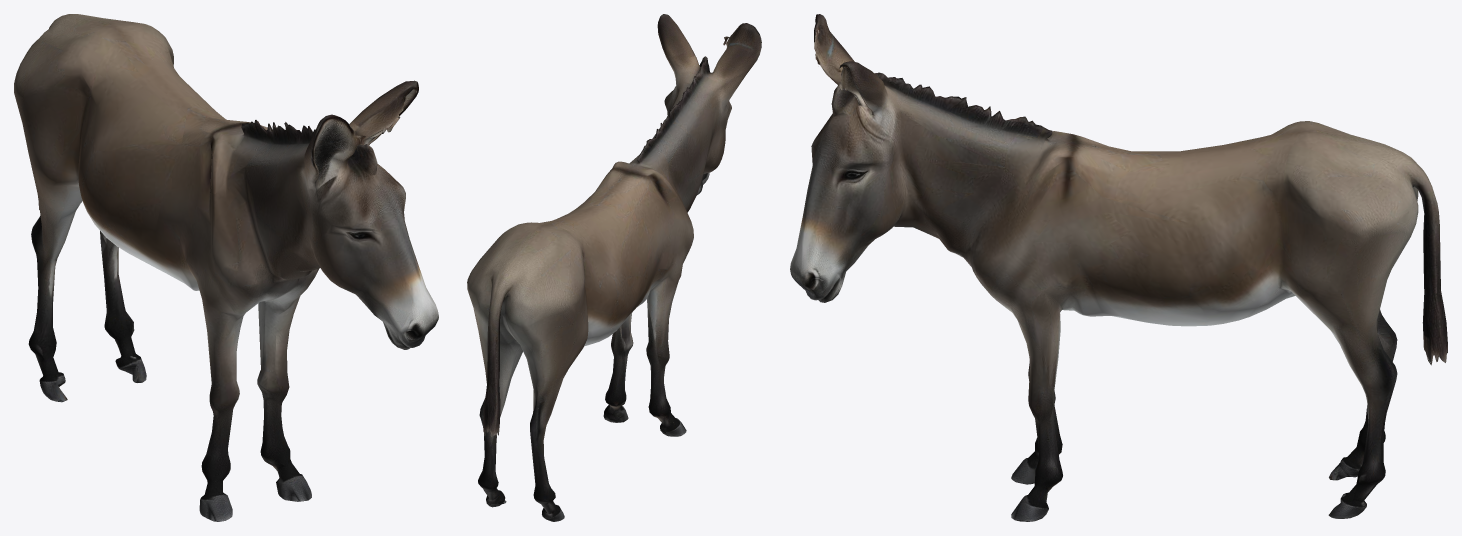
The model's file is donkey.glb.
The picture shows the model from 3 angles, left to right: view 1: azimuth 30°, elevation 25°; view 2: azimuth 150°, elevation 25°; view 3: azimuth 270°, elevation 25°; orthographic projection. The views are drawn at different scales.
Parts seen in each view (by area): view 1: Body, LegB, LegA, LegD, LegC; view 2: Body, LegB, LegD, LegA, LegC; view 3: Body, LegA, LegC, LegB, LegD.
Boxes of the visible parts, box(x1,y1,x2,y2) form: Body: box(14, 14, 432, 402); LegB: box(180, 114, 363, 291); LegA: box(240, 80, 438, 340); LegD: box(188, 266, 278, 521); LegC: box(257, 279, 425, 501); Body: box(467, 36, 729, 521); LegB: box(637, 23, 761, 268); LegD: box(646, 257, 686, 436); LegA: box(607, 14, 709, 186); LegC: box(603, 190, 701, 422); Body: box(797, 54, 1447, 518); LegA: box(790, 61, 1083, 294); LegC: box(806, 283, 1083, 521); LegB: box(814, 14, 1061, 141); LegD: box(1011, 361, 1062, 484).
Size of the model in its own units: 0.4744 by 1.48 by 1.9.
1 material, 1 textured.
